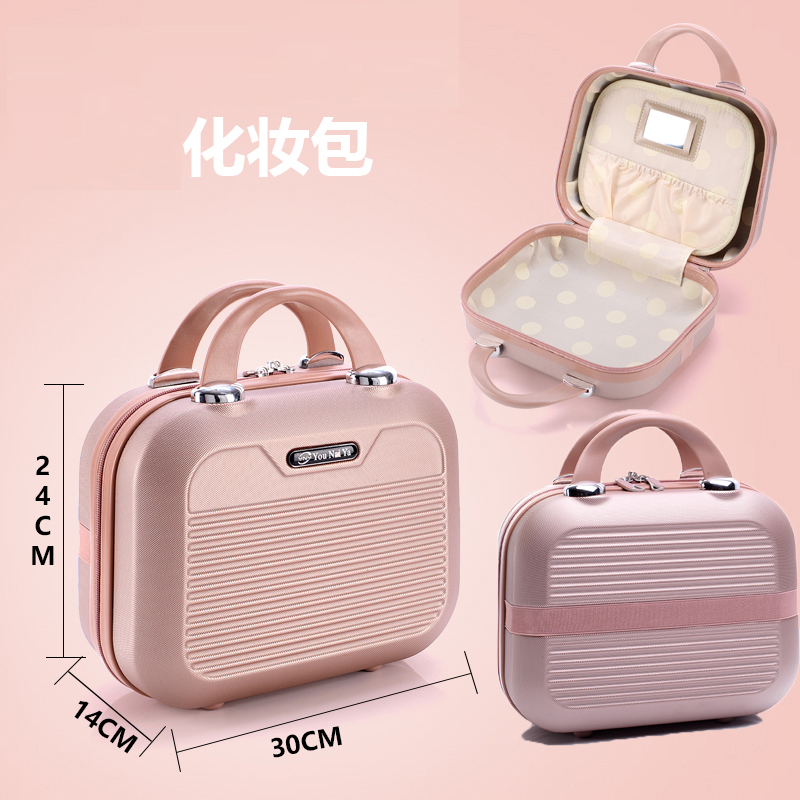shoutibox: (498, 410, 795, 737)
